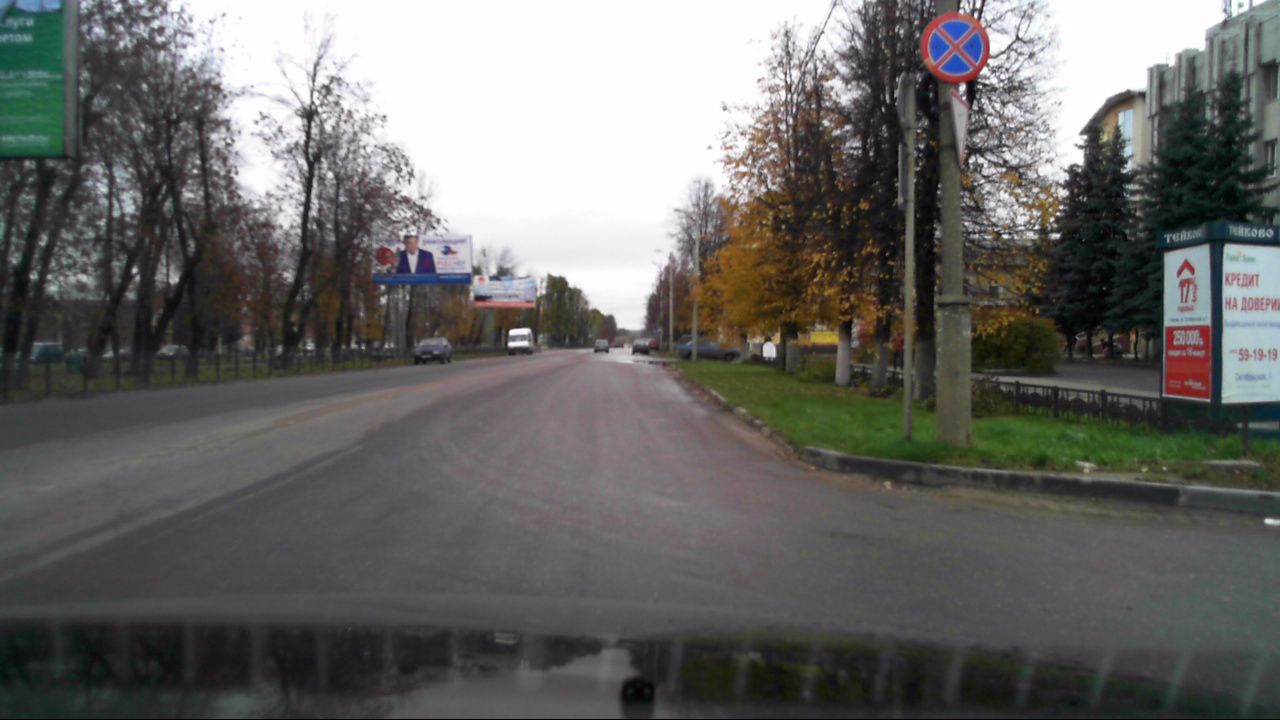No Parking: (921, 13, 990, 83)
